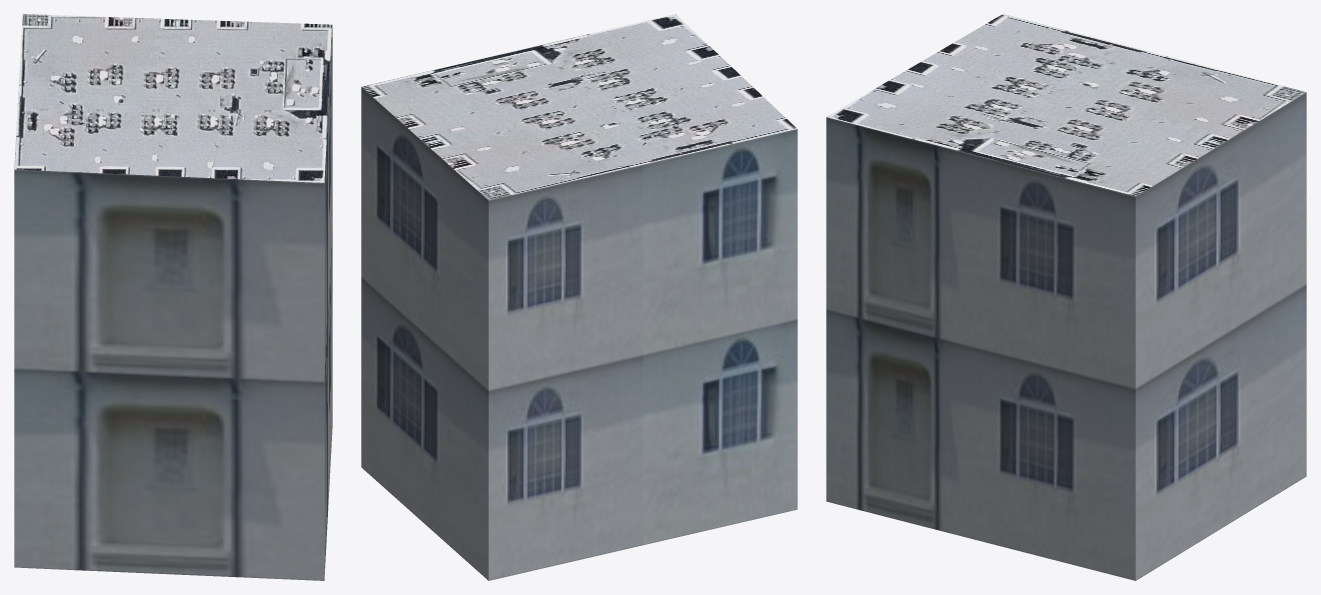
The model's file is ResTex__562.fbx.
The picture shows the model from 3 angles, left to right: view 1: azimuth 30°, elevation 25°; view 2: azimuth 150°, elevation 25°; view 3: azimuth 270°, elevation 25°; orthographic projection. The views are drawn at different scales.
Visible parts, largest first — view 1: CityEngineMaterial_17_m, CityEngineMaterial_8_m; view 2: CityEngineMaterial_17_m, CityEngineMaterial_8_m; view 3: CityEngineMaterial_17_m, CityEngineMaterial_8_m.
Boxes of the visible parts, x1,y1,x2,y2 form: CityEngineMaterial_17_m: [14, 31, 332, 580]; CityEngineMaterial_8_m: [14, 14, 332, 182]; CityEngineMaterial_17_m: [361, 87, 797, 580]; CityEngineMaterial_8_m: [361, 14, 796, 200]; CityEngineMaterial_17_m: [826, 92, 1306, 580]; CityEngineMaterial_8_m: [826, 14, 1306, 196].
Bounding box in the file's own units: 6.11 × 6 × 6.79.
Materials: 2 (2 with a texture image).
